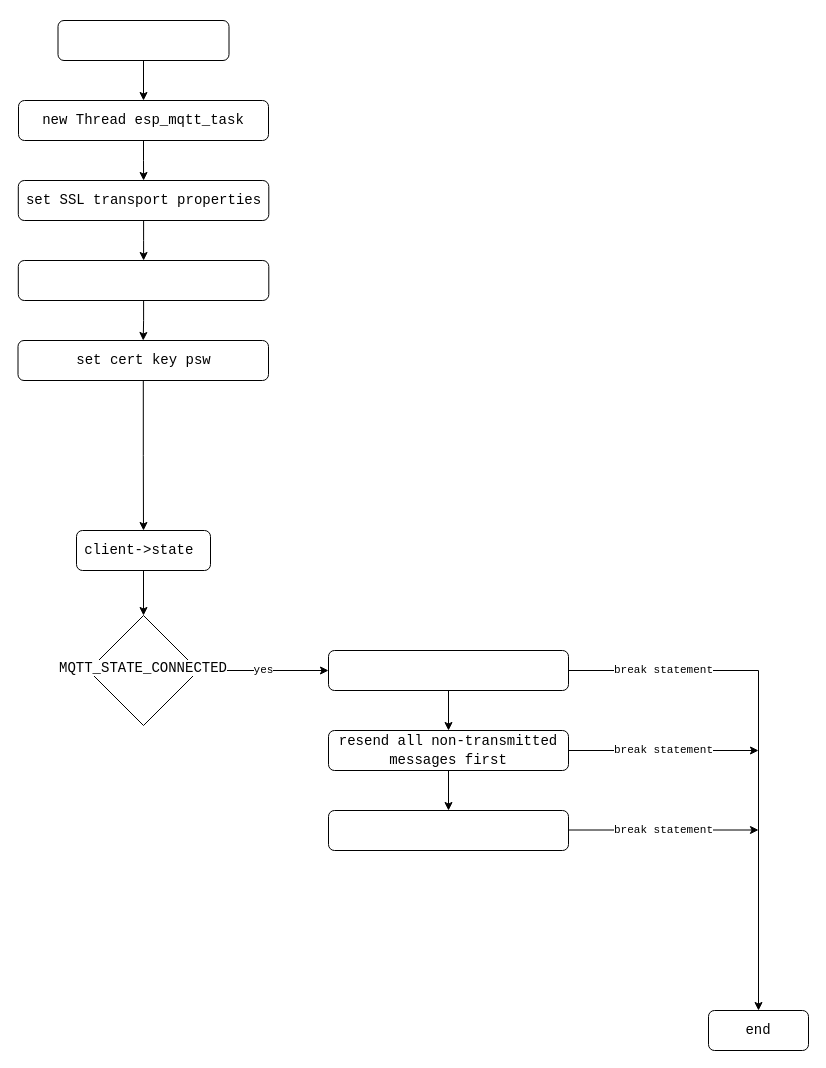
This 826x1068 diagram has some shape labels left out. The centre of each missing label's shape, as x and y in pixels:
mqtt client start: point 143,40
receive and process data mqtt_process_receive: point 448,670
set cert key data: point 143,280
wait for ping: point 448,830
